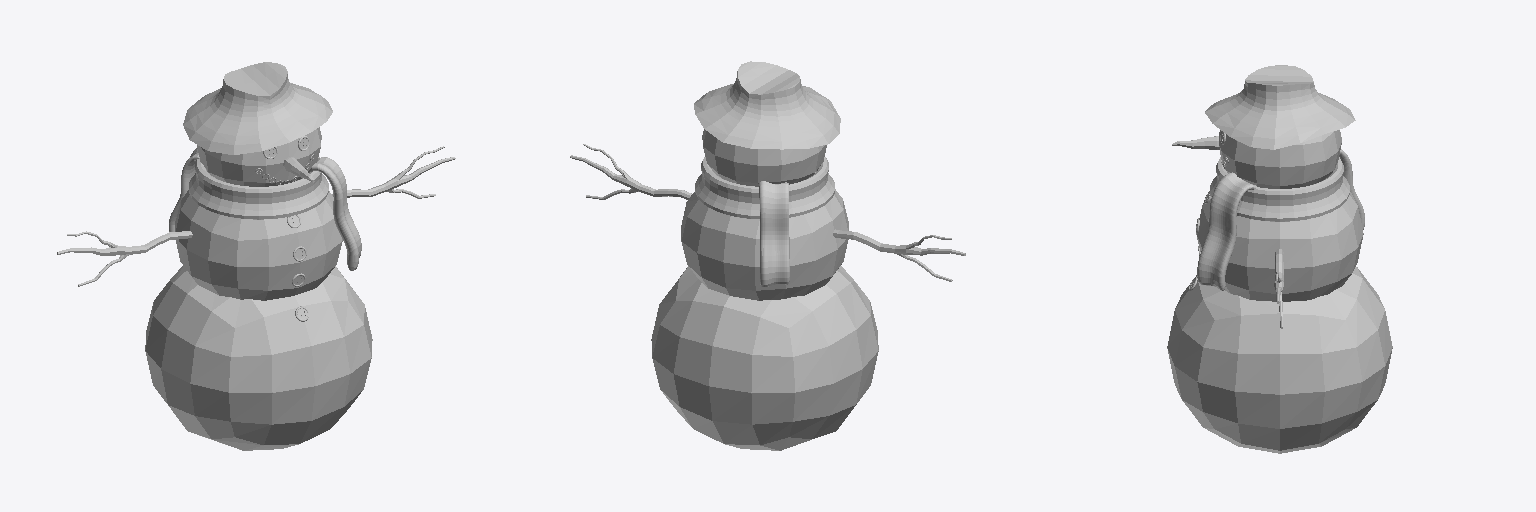
File: SnowmanWithButtons.obj
The picture shows the model from 3 angles: view 1: azimuth 30°, elevation 25°; view 2: azimuth 150°, elevation 25°; view 3: azimuth 270°, elevation 25°; orthographic projection.
Visible parts, largest first — view 1: Snowman:pCube27 polySurface48, Snowman:pCube27 polySurface47, Snowman:pCube27 polySurface3, Snowman:pCube27 polySurface24, Snowman:pCube27 polySurface25, polySurface23 Snowman:pCube27, polySurface49, polySurface45, Snowman:pCube27 polySurface18; view 2: Snowman:pCube27 polySurface48, Snowman:pCube27 polySurface47, Snowman:pCube27 polySurface3, Snowman:pCube27 polySurface25, Snowman:pCube27 polySurface24, Snowman:pCube27 polySurface18, polySurface49, polySurface45; view 3: Snowman:pCube27 polySurface48, Snowman:pCube27 polySurface47, Snowman:pCube27 polySurface3, Snowman:pCube27 polySurface25, Snowman:pCube27 polySurface24, polySurface23 Snowman:pCube27.
Part boxes in pixels (x1,y1,x2,y2): Snowman:pCube27 polySurface48: (145,266,372,450); Snowman:pCube27 polySurface47: (175,172,342,300); Snowman:pCube27 polySurface3: (183,62,332,154); Snowman:pCube27 polySurface24: (189,157,328,219); Snowman:pCube27 polySurface25: (197,127,321,186); polySurface23 Snowman:pCube27: (309,157,361,270); polySurface49: (57,231,192,286); polySurface45: (332,146,455,198); Snowman:pCube27 polySurface18: (169,148,199,231); Snowman:pCube27 polySurface48: (651,266,878,450); Snowman:pCube27 polySurface47: (681,172,848,300); Snowman:pCube27 polySurface3: (694,61,840,149); Snowman:pCube27 polySurface25: (702,129,826,186); Snowman:pCube27 polySurface24: (695,157,834,218); Snowman:pCube27 polySurface18: (759,181,789,286); polySurface49: (833,229,965,281); polySurface45: (570,144,691,199); Snowman:pCube27 polySurface48: (1167,267,1392,453); Snowman:pCube27 polySurface47: (1196,192,1363,301); Snowman:pCube27 polySurface3: (1205,65,1355,149); Snowman:pCube27 polySurface25: (1219,130,1341,188); Snowman:pCube27 polySurface24: (1210,157,1349,221); polySurface23 Snowman:pCube27: (1197,172,1256,290).
Size of the model in its own units: 6.73 by 5.97 by 3.32.